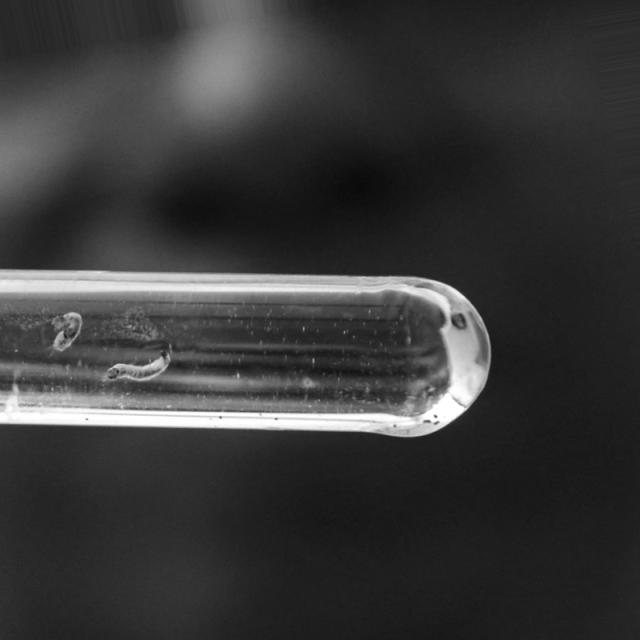larvas: (108, 353, 174, 384), (51, 310, 82, 350)
